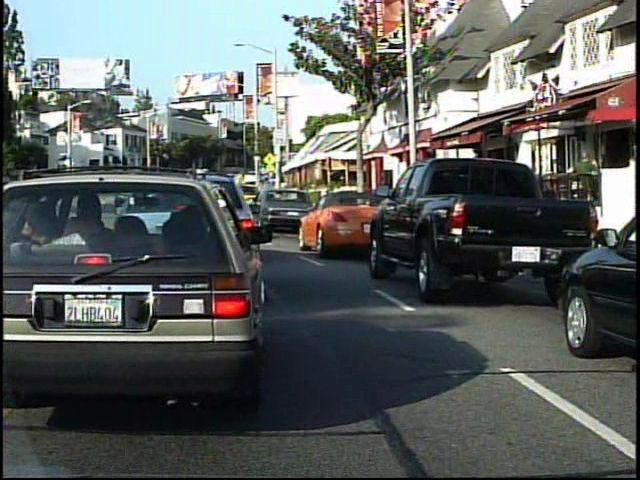person: (568, 147, 601, 224)
